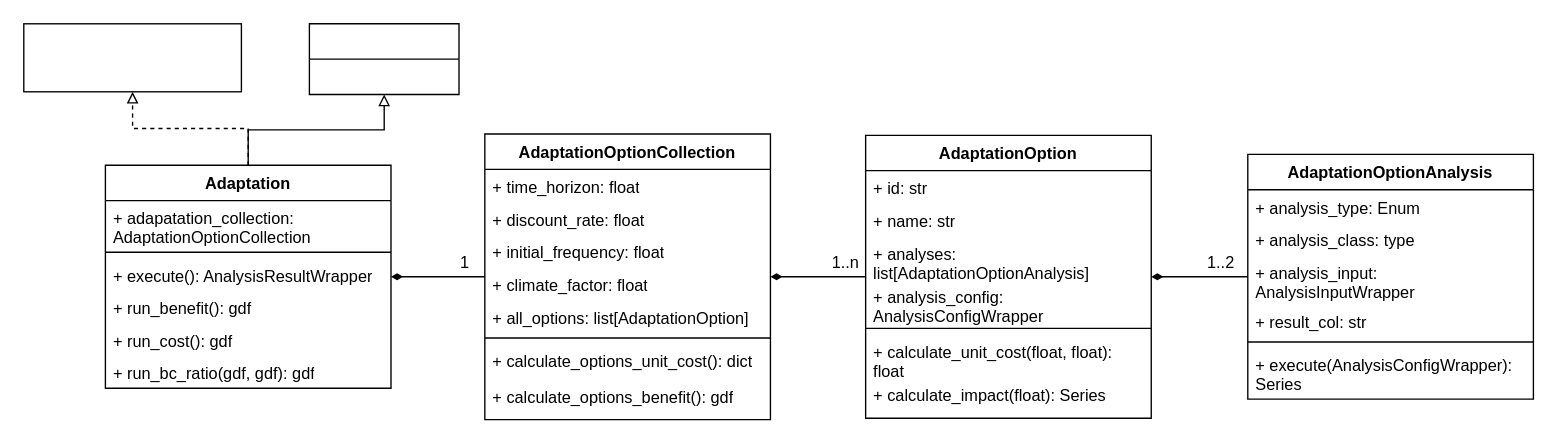
Image size: 1557x447. Some labels were removed from this diagram. The centre of each missing label's shape, as x and y in pixels:
"AnalysisBase" goes at point 383,58.
"«interface» AnalysisDamagesProtocol" goes at point 131,57.
